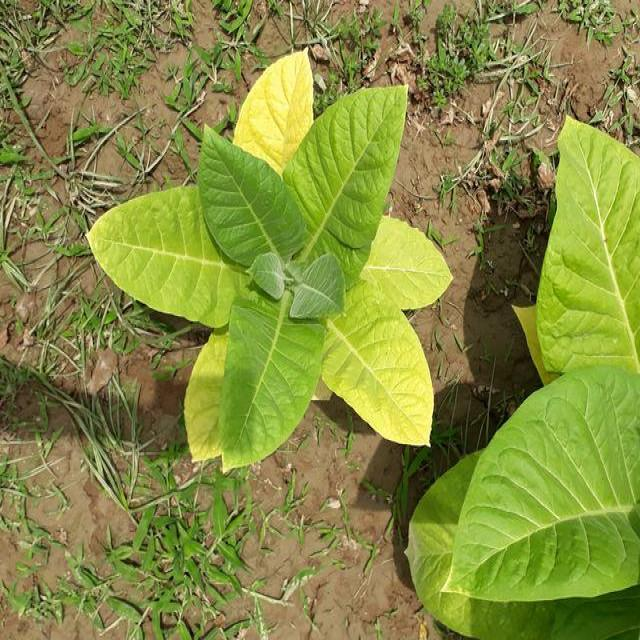crop: (90, 64, 450, 454), (406, 117, 640, 640)
